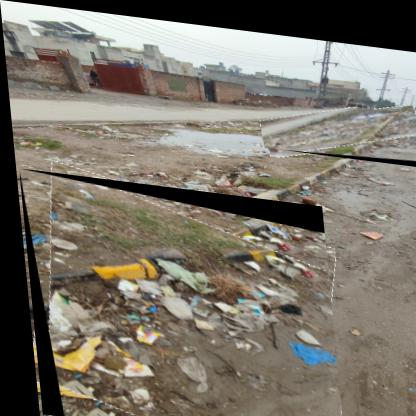Garbage: (16, 169, 340, 416), (257, 89, 416, 160)
